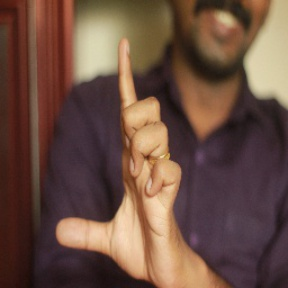L: (52, 37, 187, 283)
